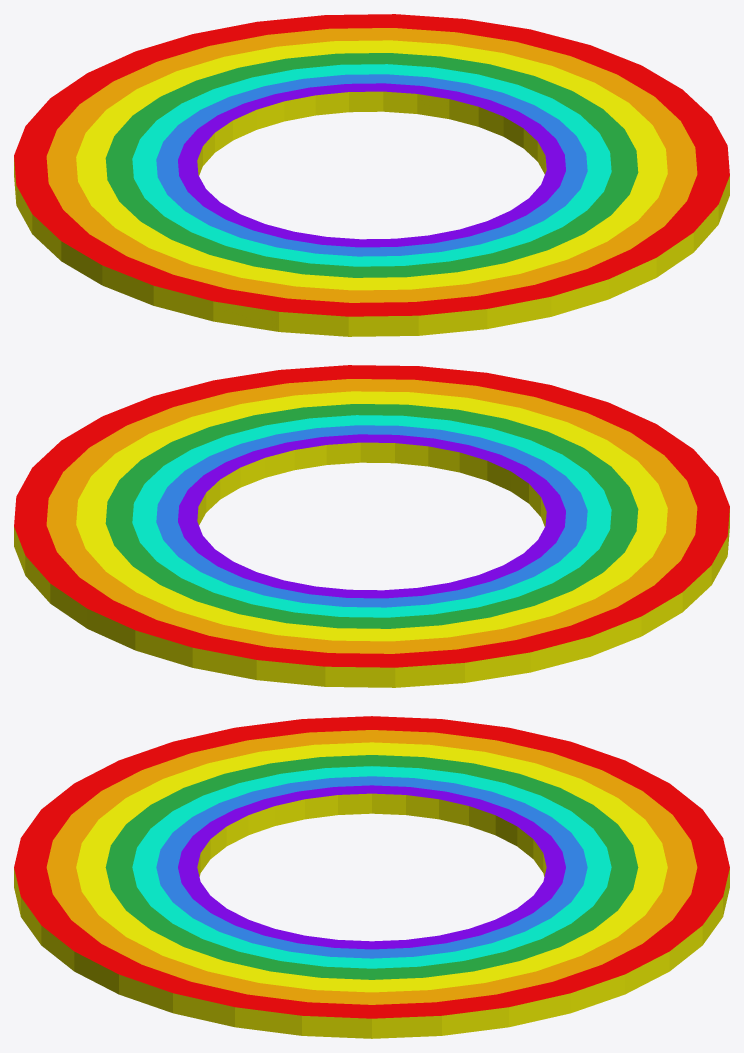
File: CircleWitoutCenter1.fbx
3 views of the same model, one above another, from view 1: azimuth 30°, elevation 25°; view 2: azimuth 150°, elevation 25°; view 3: azimuth 270°, elevation 25° (orthographic).
Visible parts, largest first — view 1: CircleWitoutCenter1; view 2: CircleWitoutCenter1; view 3: CircleWitoutCenter1.
Part boxes in pixels (left/top/right/bottom): CircleWitoutCenter1: left=14, top=14, right=729, bottom=336; CircleWitoutCenter1: left=14, top=365, right=729, bottom=687; CircleWitoutCenter1: left=14, top=716, right=729, bottom=1038.
Size of the model in its own units: 28 by 0.8682 by 28.
